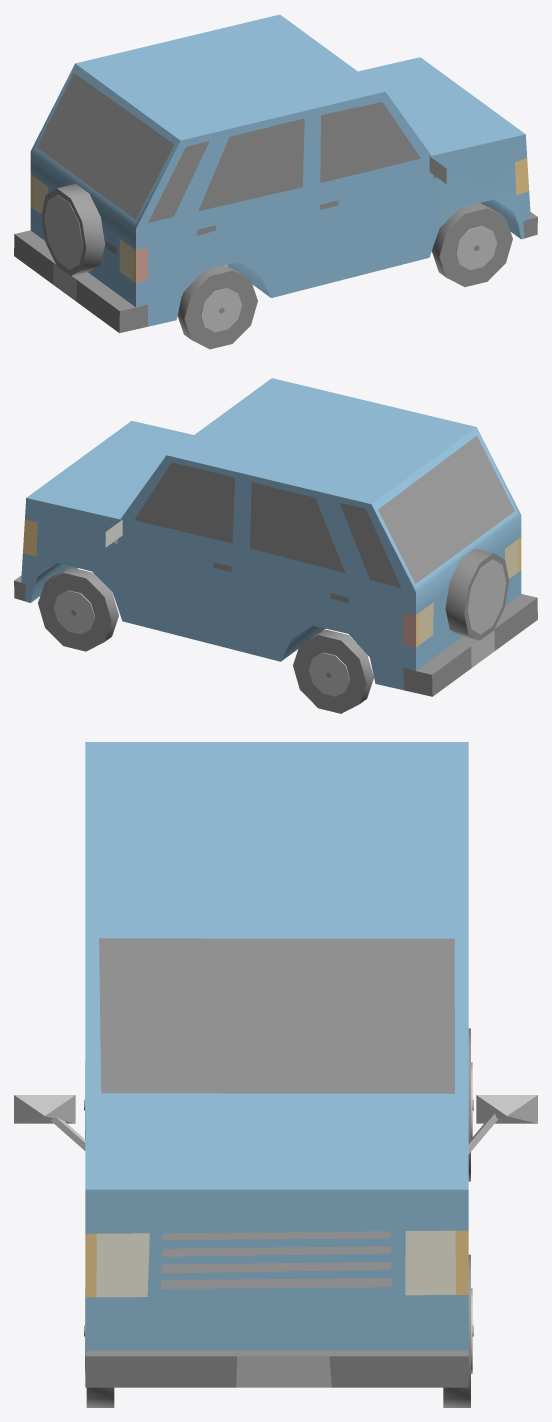
Rendered from kar_l_1.fbx.
3 renders of one model, top to bottom at view 1: azimuth 30°, elevation 25°; view 2: azimuth 150°, elevation 25°; view 3: azimuth 270°, elevation 25°, orthographic. The views are drawn at different scales.
Visible parts, largest first — view 1: Cube, Cylinder_6, Cylinder_9; view 2: Cube, Cylinder_7, Cylinder_8; view 3: Cube, Cylinder_7.
Part boxes in pixels (left/top/right/bottom): Cube: left=14, top=14, right=537, bottom=333; Cylinder_6: left=432, top=203, right=512, bottom=286; Cylinder_9: left=177, top=265, right=257, bottom=349; Cube: left=14, top=378, right=537, bottom=696; Cylinder_7: left=38, top=567, right=118, bottom=651; Cylinder_8: left=293, top=629, right=373, bottom=713; Cube: left=14, top=742, right=537, bottom=1387; Cylinder_7: left=443, top=1254, right=473, bottom=1407.
Bounding box in the file's own units: 437 × 215 × 259.
